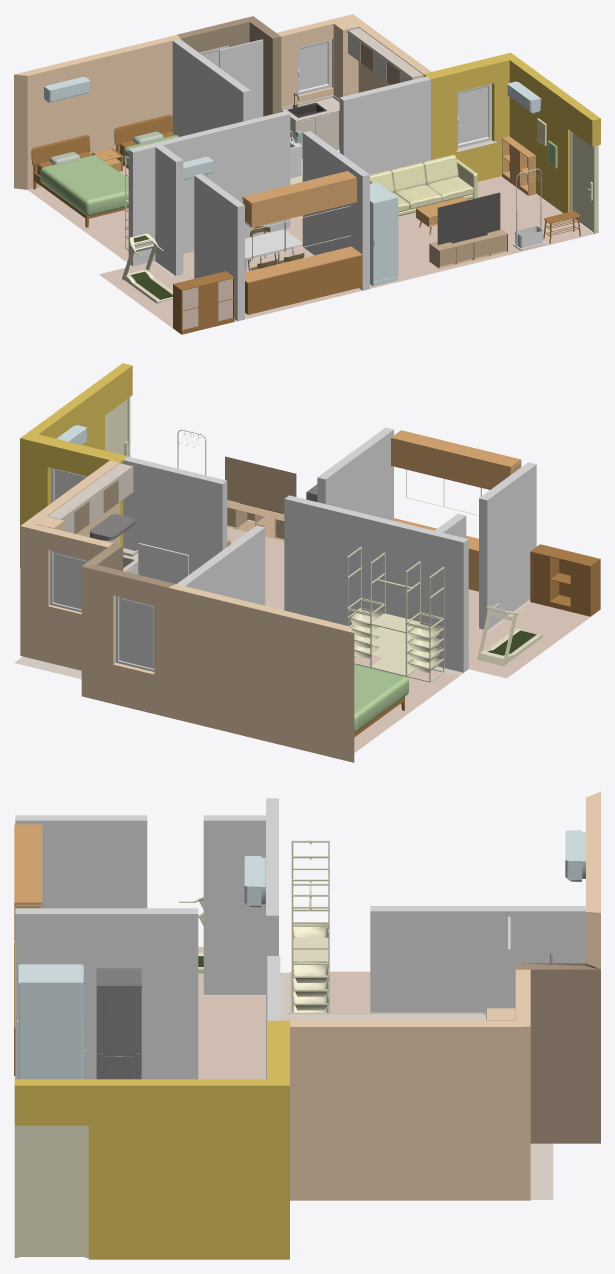
The model's file is house21.glb.
3 renders of one model, top to bottom at view 1: azimuth 30°, elevation 25°; view 2: azimuth 150°, elevation 25°; view 3: azimuth 270°, elevation 25°, orthographic. The views are drawn at different scales.
Parts seen in each view (by area): view 1: 物件_99, 立方体_3_2_2, 立方体_3_3_2, 物件_95, 地毯_1, 物件_94, 立方体_3_4_2, 立方体_3_1, 立方体_3_5, 沙发, 立方体, 立方体_1 (+36 smaller); view 2: 物件_99, 立方体_3_2_2, 立方体_3_3_2, 立方体_3_5, 物件_102, 衣柜框, 立方体_3_4_2, 立方体_1, 电视_ok, 物件_95, 餐厅橱子, 立方体_3_1 (+20 smaller); view 3: 物件_103, 物件_94, 立方体_3_1, 立方体_3_4_2, 物件_90, 立方体_3_6, 立方体_3_5, 门, 衣柜, 地毯, 冰箱, 衣柜框 (+12 smaller).
Boxes of the visible parts, x1,y1,x2,y2 form: 物件_99: (14, 20, 250, 189); 立方体_3_2_2: (128, 111, 290, 266); 立方体_3_3_2: (339, 76, 430, 174); 物件_95: (424, 52, 510, 181); 地毯_1: (398, 176, 593, 277); 物件_94: (509, 53, 576, 213); 立方体_3_4_2: (302, 131, 369, 290); 立方体_3_1: (172, 39, 250, 136); 立方体_3_5: (194, 173, 244, 321); 沙发: (370, 154, 477, 216); 立方体: (245, 255, 362, 314); 立方体_1: (242, 171, 356, 227); 物件_99: (81, 566, 354, 762); 立方体_3_2_2: (284, 495, 468, 672); 立方体_3_3_2: (123, 456, 227, 574); 立方体_3_5: (479, 462, 536, 630); 物件_102: (20, 524, 112, 670); 衣柜框: (347, 546, 444, 682); 立方体_3_4_2: (317, 427, 393, 520); 立方体_1: (391, 430, 521, 489); 电视_ok: (225, 457, 295, 540); 物件_95: (20, 434, 127, 567); 餐厅橱子: (530, 544, 600, 616); 立方体_3_1: (177, 525, 265, 605); 物件_103: (290, 1020, 530, 1200); 物件_94: (88, 1079, 289, 1259); 立方体_3_1: (370, 906, 585, 1020); 立方体_3_4_2: (15, 908, 198, 1079); 物件_90: (515, 963, 600, 1143); 立方体_3_6: (203, 815, 270, 994); 立方体_3_5: (15, 815, 147, 908); 门: (14, 1125, 88, 1257); 衣柜: (16, 964, 86, 1079); 地毯: (14, 971, 370, 1079); 冰箱: (96, 968, 141, 1079); 衣柜框: (291, 840, 329, 1012).
Size of the model in its own units: 11.72 by 3.14 by 9.3.
